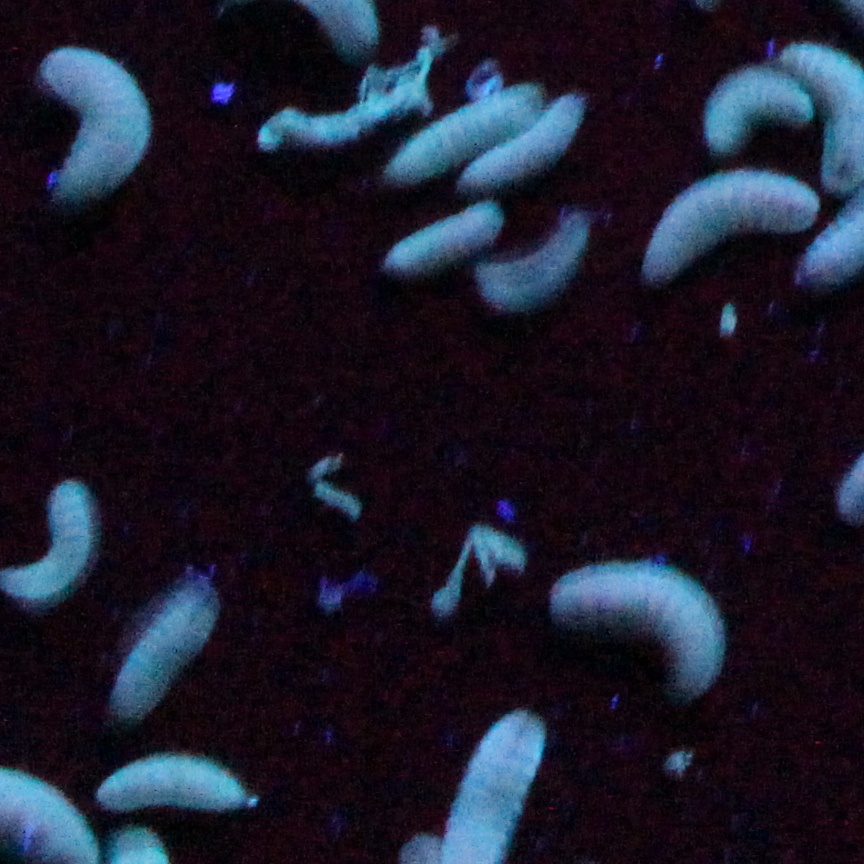larve: (551, 559, 732, 695), (36, 49, 157, 201), (645, 174, 818, 276), (384, 84, 545, 174), (118, 574, 211, 716), (461, 91, 588, 187), (5, 476, 101, 597), (478, 214, 593, 309), (709, 70, 811, 151), (95, 757, 257, 807), (386, 203, 503, 268)
